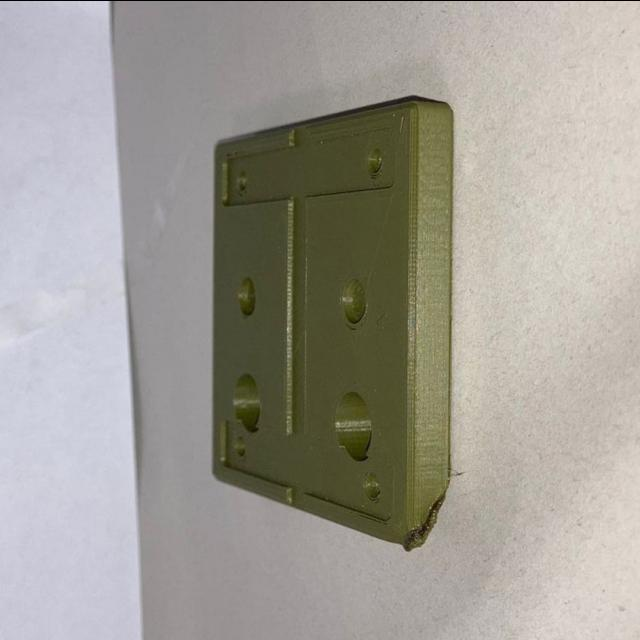Warping: (407, 475, 449, 549)
